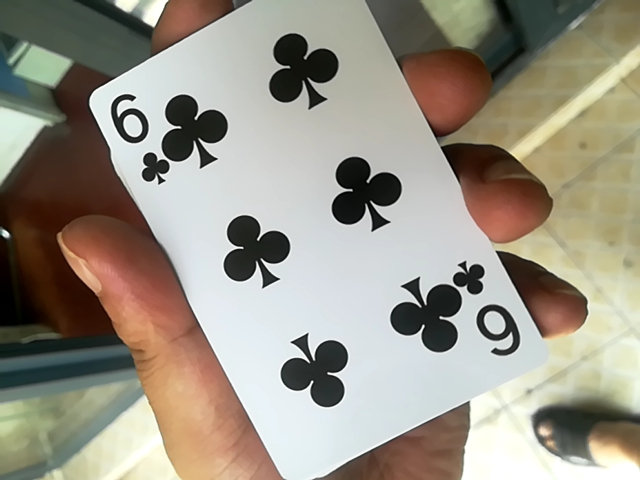mh 6: (77, 0, 537, 480)
